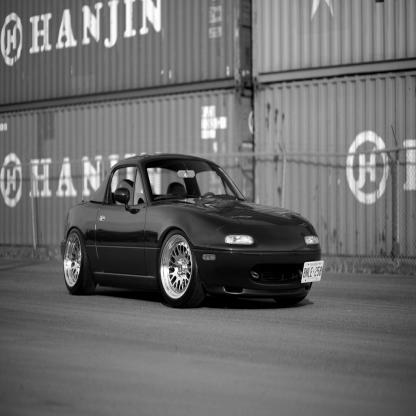car: (54, 142, 335, 319)
